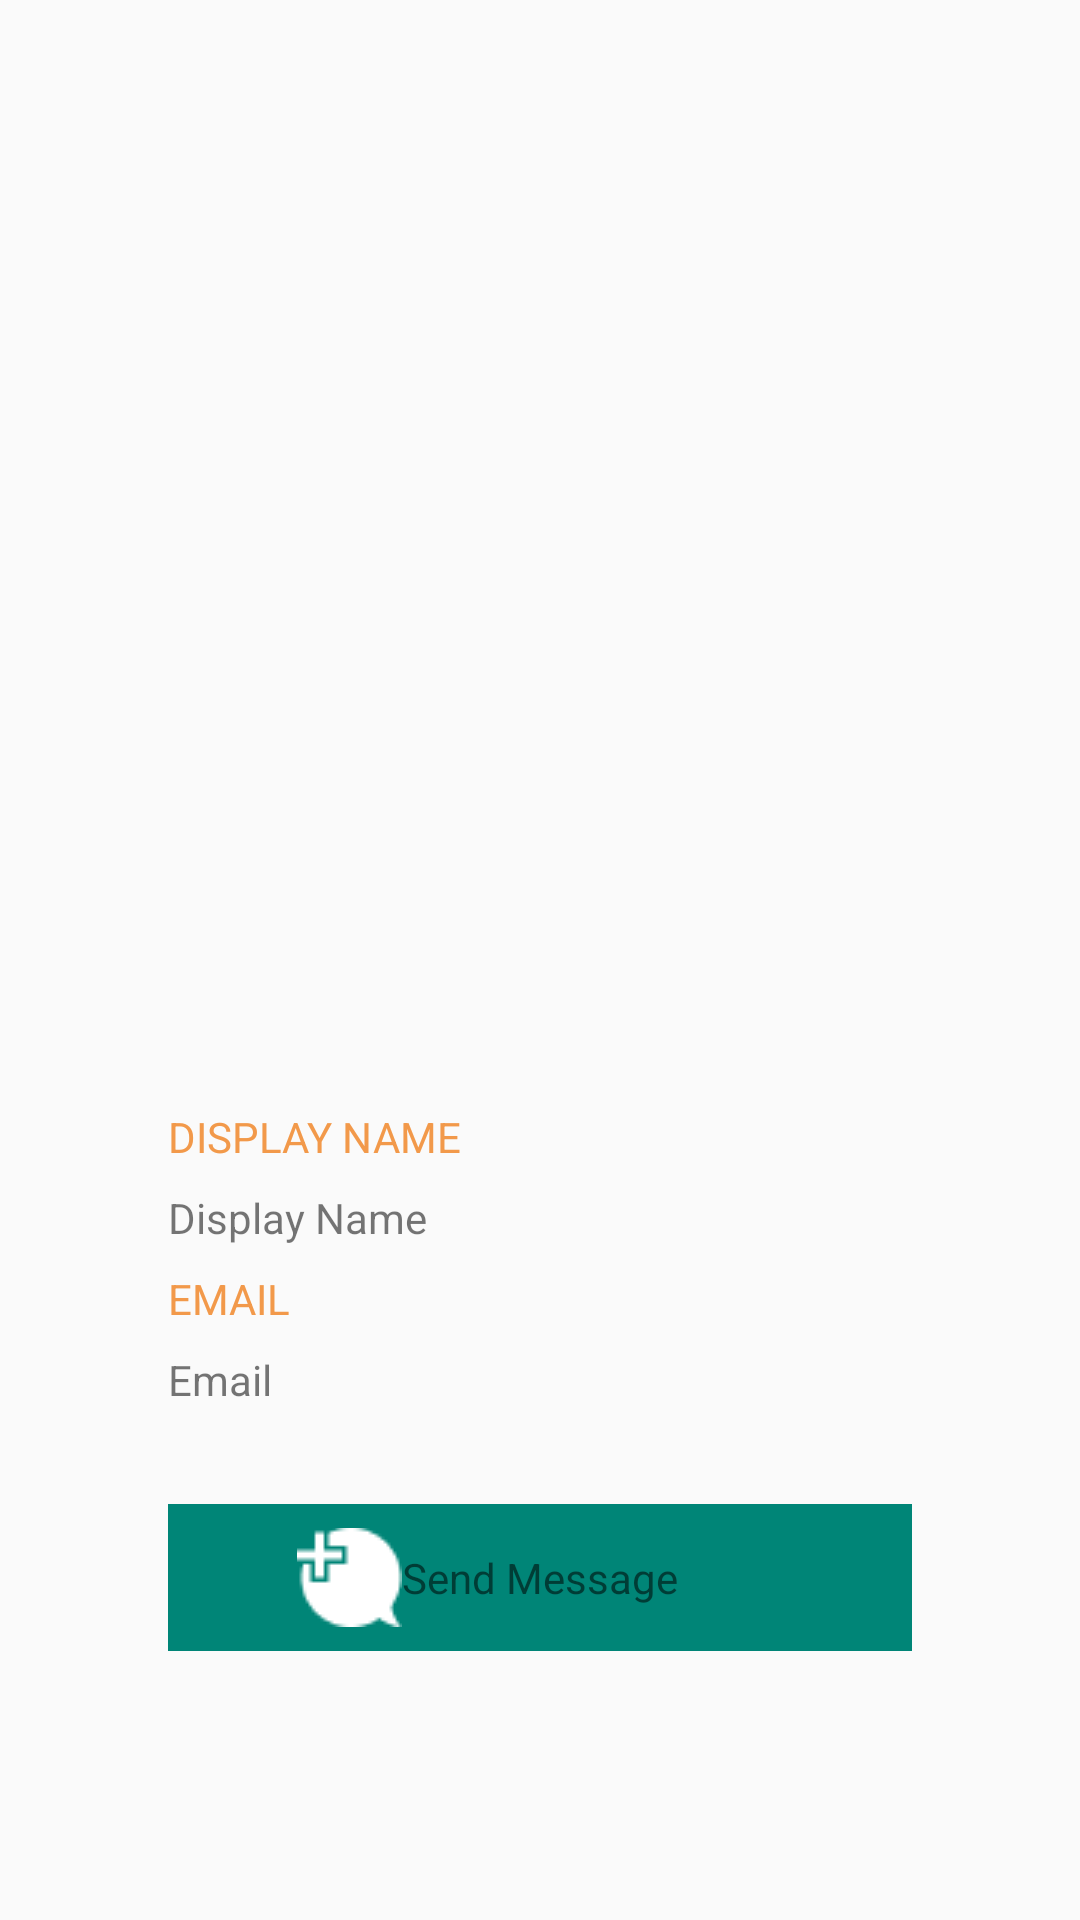

Icons on this 1080×1920 Android screen, each with its box as {"x1": x1, "y1": y1, "x2": x2, "y2": y2}:
chat: {"x1": 297, "y1": 1528, "x2": 402, "y2": 1627}
